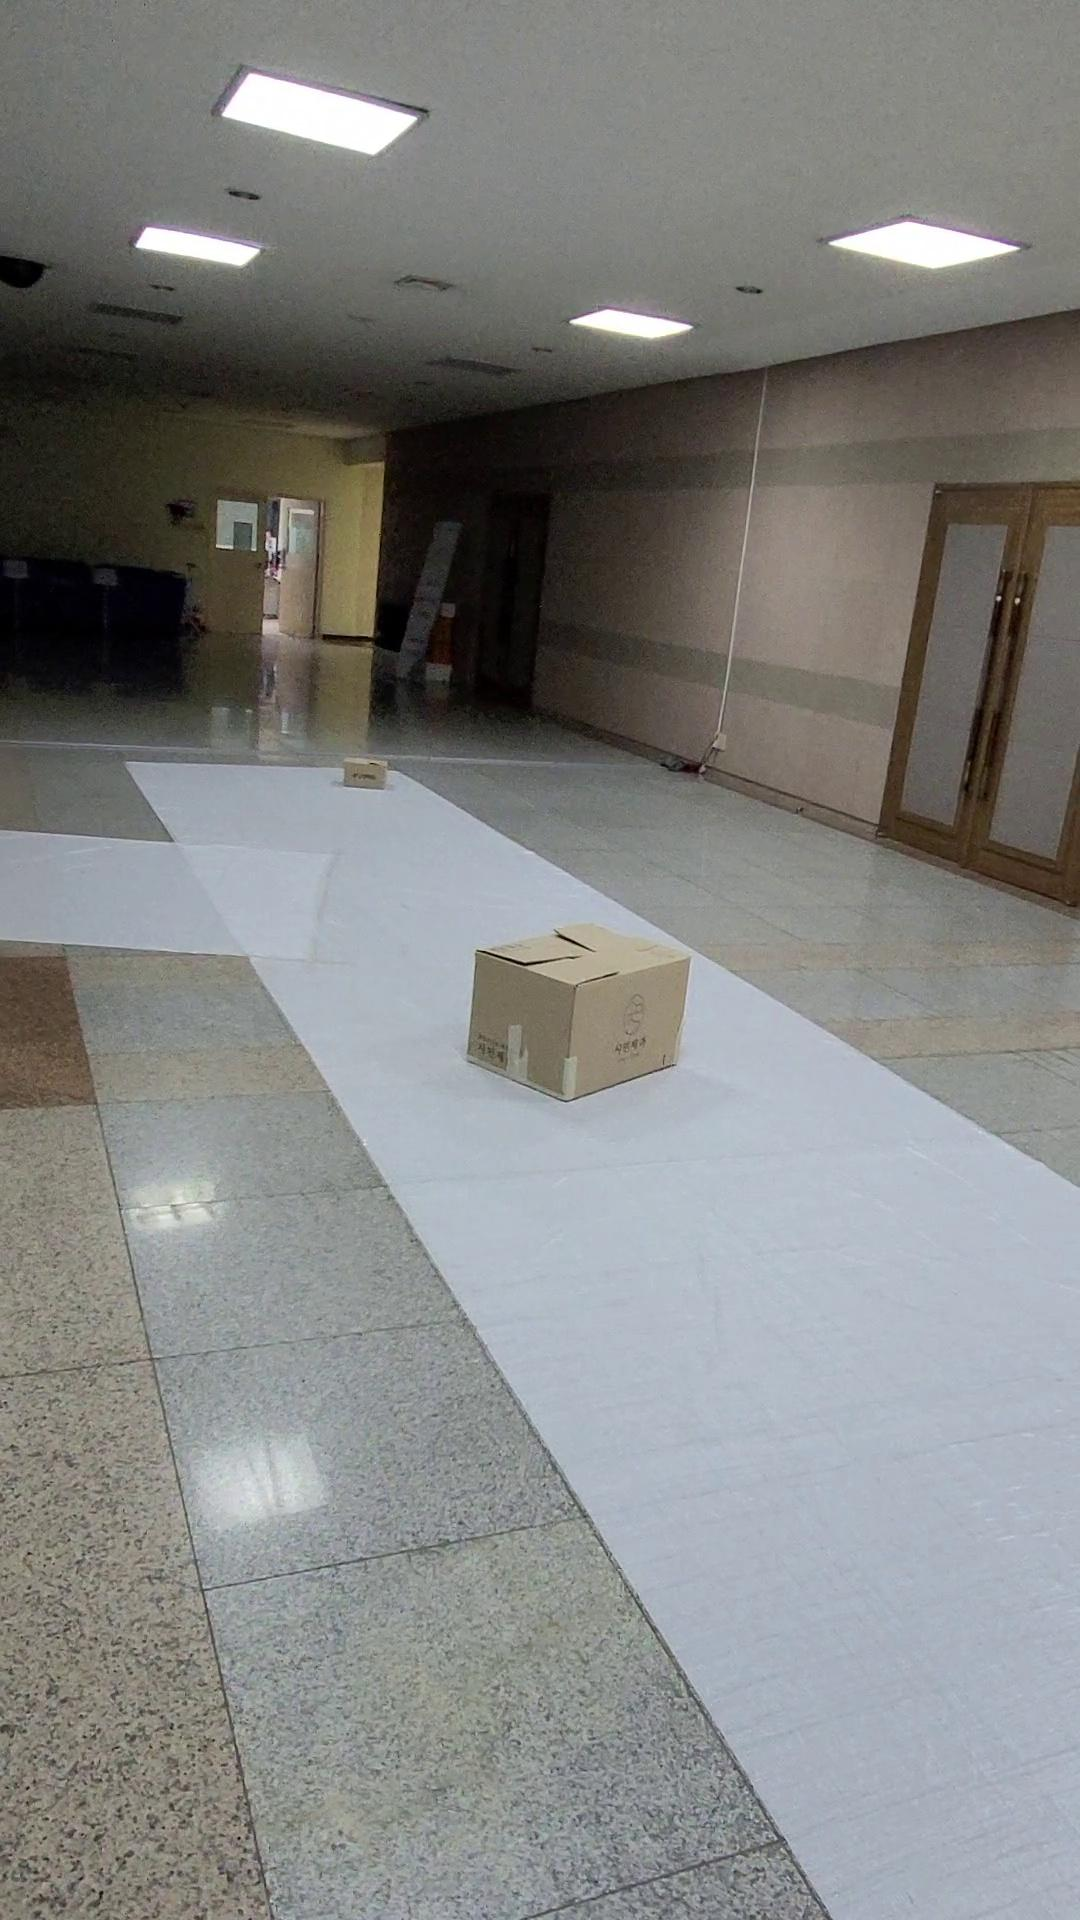Box: (448, 910, 704, 1102), (343, 748, 392, 800)
